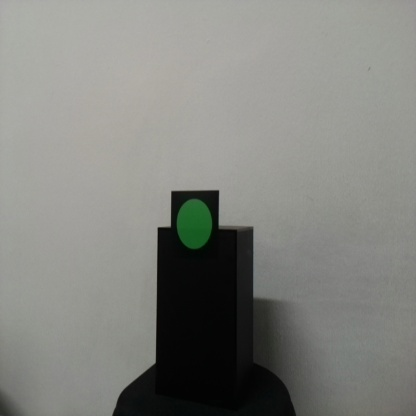id_5: (171, 190, 219, 260)
